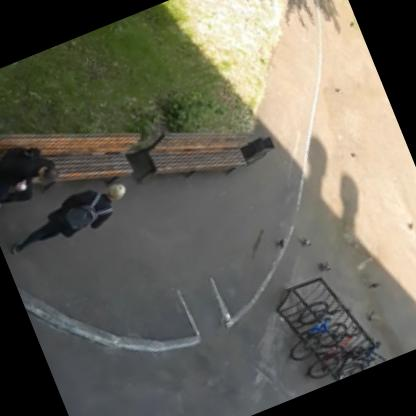Human Body: (0, 169, 141, 271), (0, 124, 69, 220)
